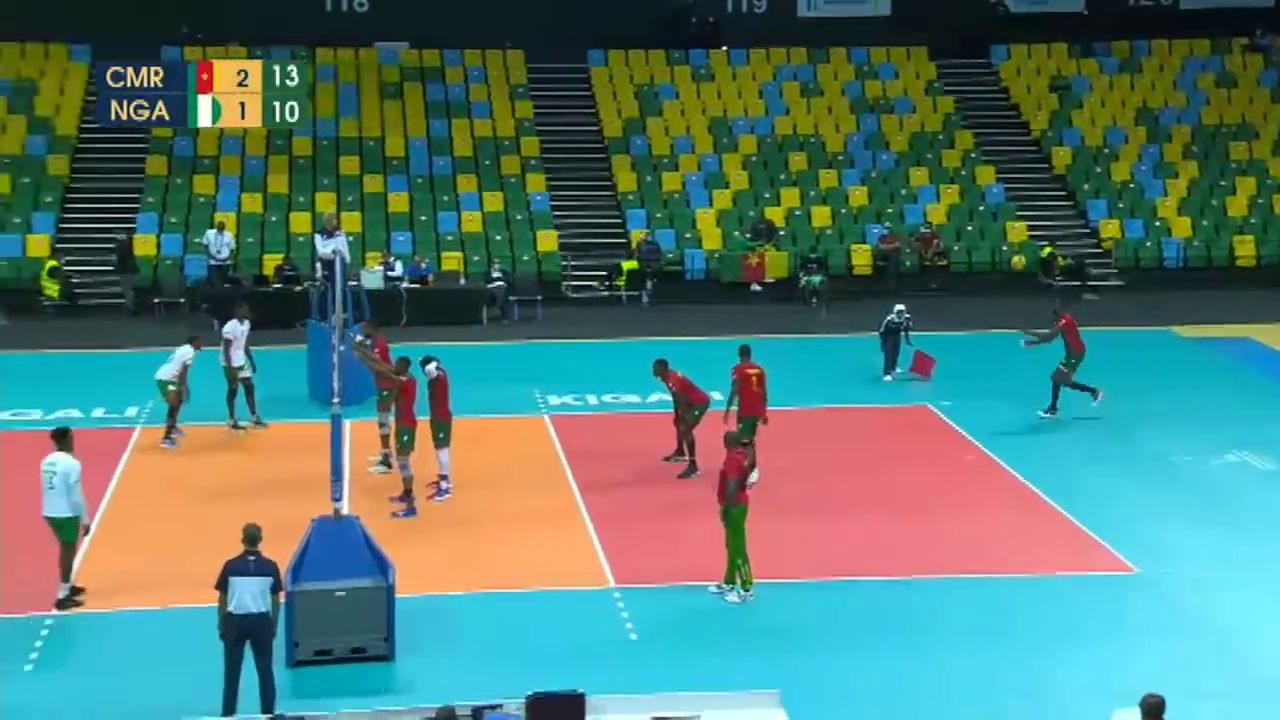player: (37, 431, 89, 604), (1027, 308, 1105, 415), (378, 354, 423, 518), (648, 359, 712, 472), (724, 343, 773, 486), (151, 333, 204, 447), (356, 319, 394, 471), (222, 305, 267, 428), (421, 355, 457, 499)
refree: (215, 524, 290, 716), (312, 209, 356, 314), (879, 302, 923, 384)
